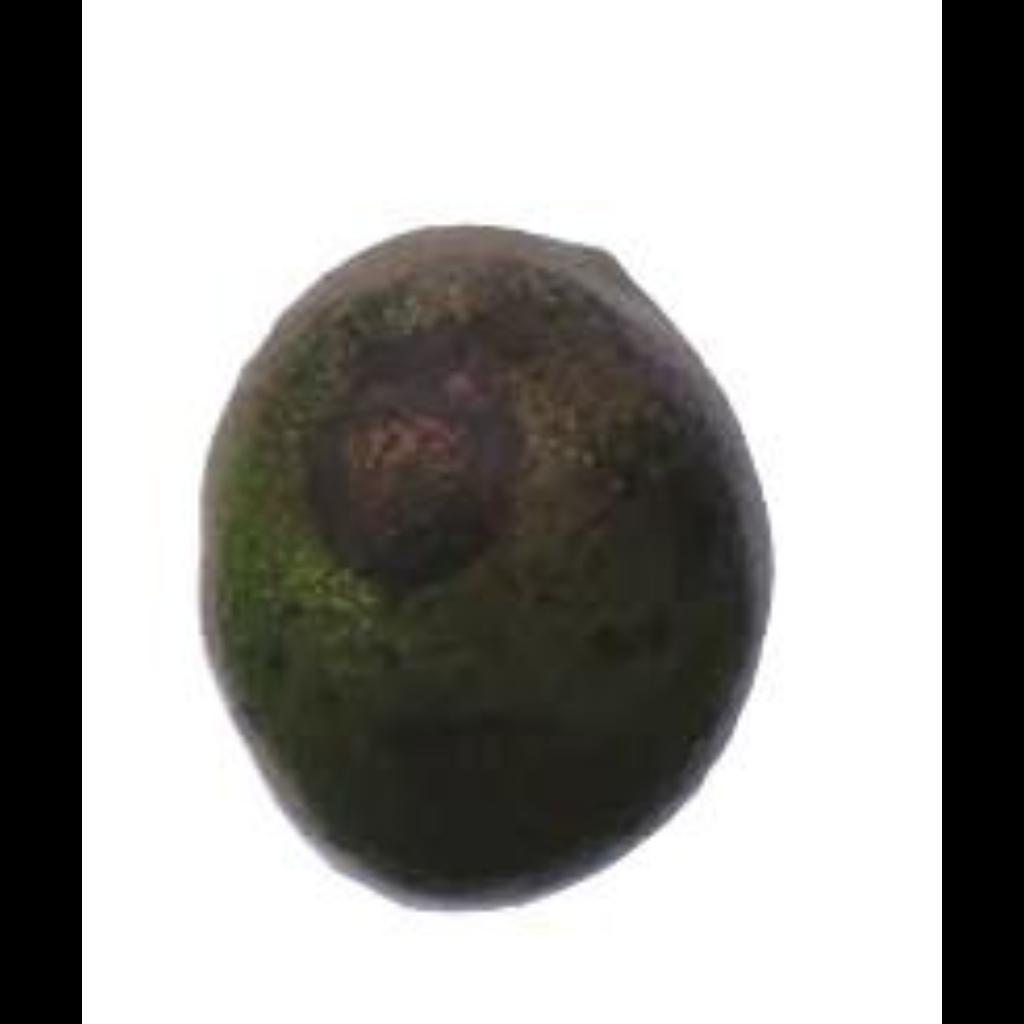antracnosis_fruto: (237, 247, 755, 866)
